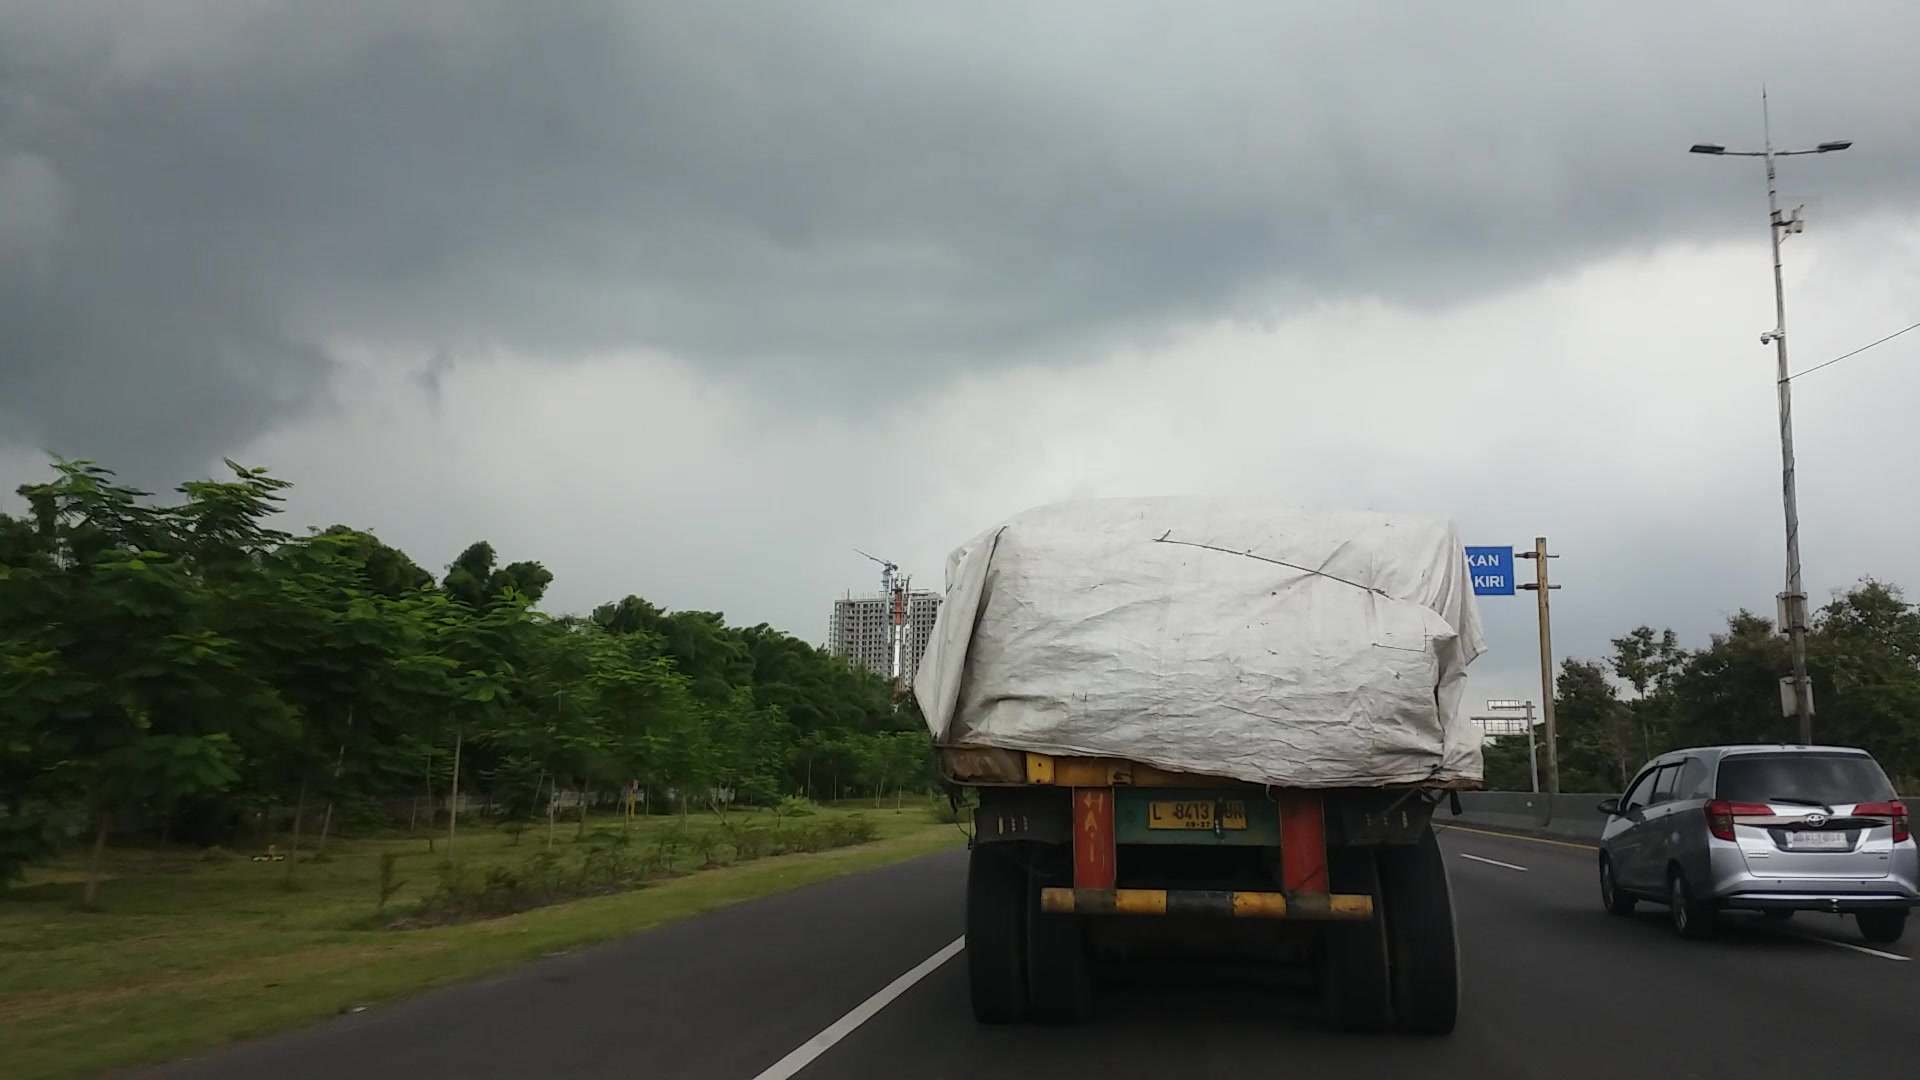plate_positive: (1147, 798, 1247, 829)
